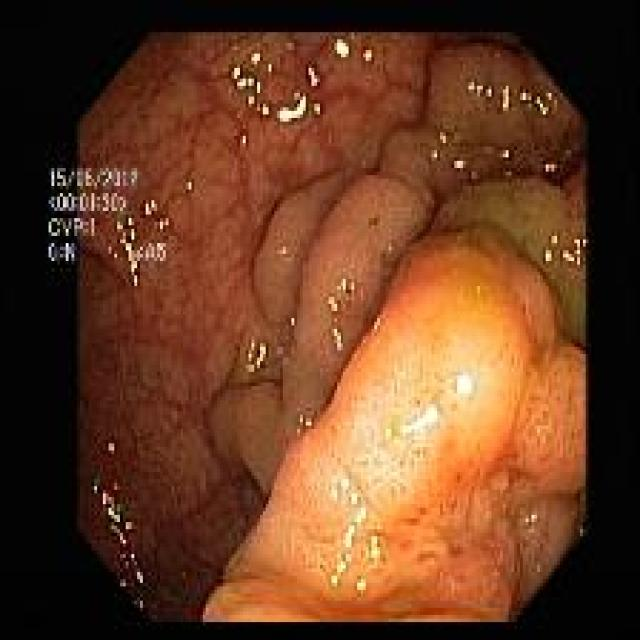Polyps: (202, 230, 585, 621), (212, 133, 435, 492), (426, 42, 585, 180), (254, 175, 348, 324)
